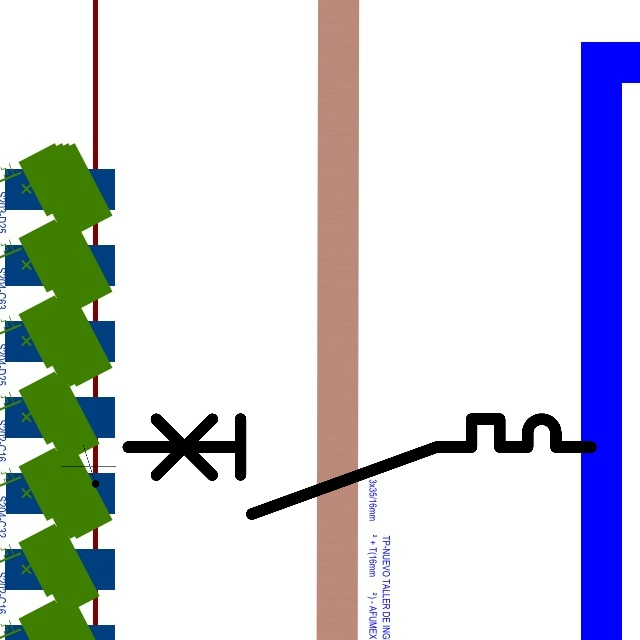interruptor_termomagnetico: (116, 407, 603, 526)
